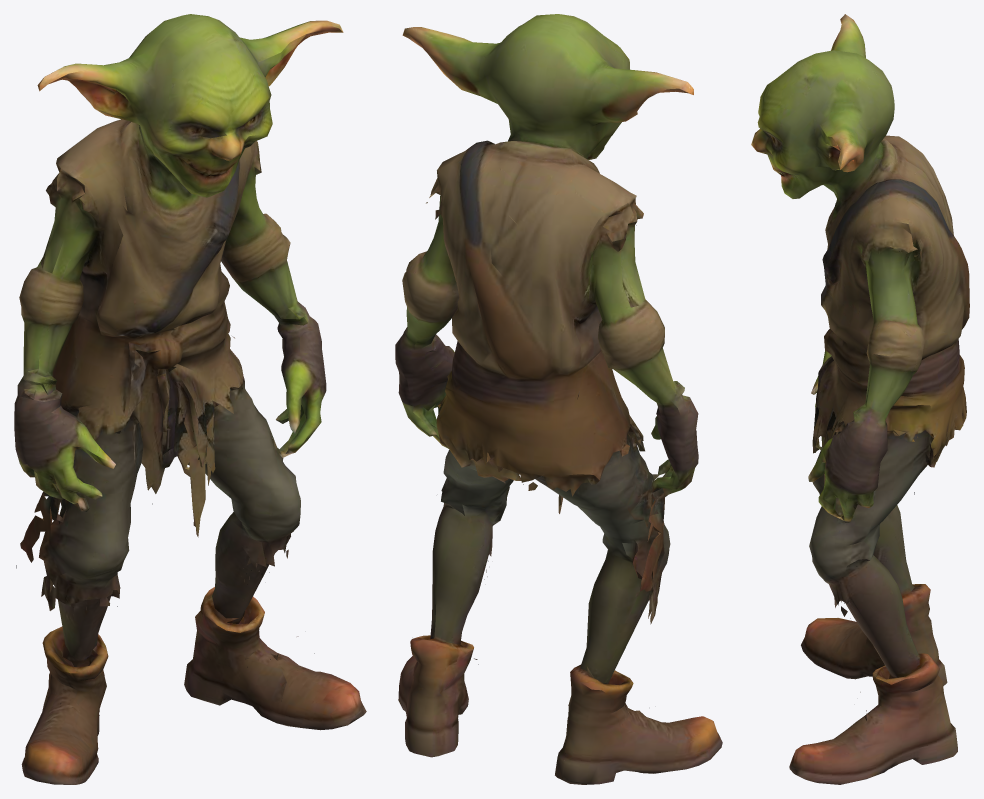
The model's file is goblin_ragged_lod0.glb.
3 renders of one model, left to right at view 1: azimuth 30°, elevation 25°; view 2: azimuth 150°, elevation 25°; view 3: azimuth 270°, elevation 25°, orthographic. The views are drawn at different scales.
Visible parts, largest first — view 1: goblin_ragged_lod0; view 2: goblin_ragged_lod0; view 3: goblin_ragged_lod0.
Part boxes in pixels (x1=…): goblin_ragged_lod0: x1=14, y1=14, x2=366, y2=784; goblin_ragged_lod0: x1=395, y1=14, x2=722, y2=784; goblin_ragged_lod0: x1=751, y1=14, x2=969, y2=784.
Bounding box in the file's own units: 0.6506 × 1.4 × 0.4173.
1 material, 1 textured.
